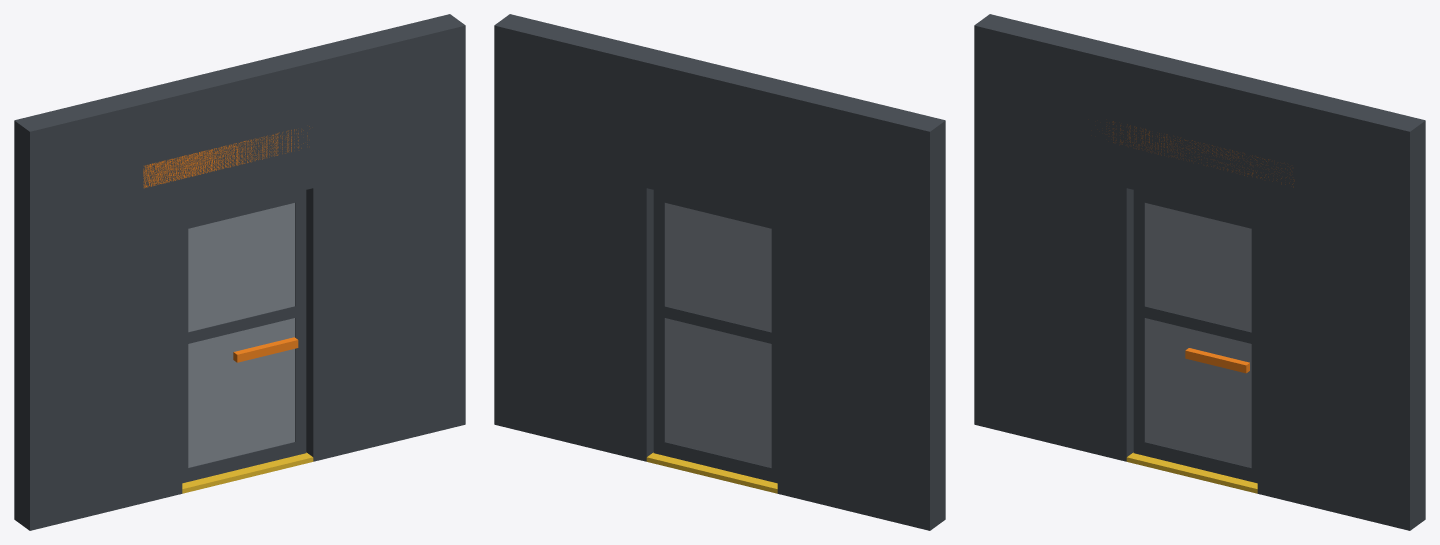
The model's file is door.glb.
3 views of the same model, side by side, from view 1: azimuth 30°, elevation 25°; view 2: azimuth 150°, elevation 25°; view 3: azimuth 330°, elevation 25° (orthographic).
Visible parts, largest first — view 1: col_Door_JambR, col_Door_JambL, col_Door_Header, Door_LOD0, Door_Leaf; view 2: col_Door_Header, col_Door_JambR, col_Door_JambL, Door_LOD0, Door_Leaf; view 3: col_Door_Header, col_Door_JambL, col_Door_JambR, Door_LOD0, Door_Leaf.
Boxes of the visible parts, x1=… form: col_Door_JambR: x1=306, y1=14, x2=465, y2=461; col_Door_JambL: x1=14, y1=83, x2=182, y2=530; col_Door_Header: x1=14, y1=14, x2=465, y2=256; Door_LOD0: x1=14, y1=14, x2=465, y2=530; Door_Leaf: x1=182, y1=190, x2=306, y2=483; col_Door_Header: x1=494, y1=14, x2=945, y2=256; col_Door_JambR: x1=494, y1=14, x2=657, y2=461; col_Door_JambL: x1=777, y1=84, x2=945, y2=530; Door_LOD0: x1=494, y1=15, x2=945, y2=529; Door_Leaf: x1=653, y1=190, x2=777, y2=483; col_Door_Header: x1=974, y1=14, x2=1425, y2=256; col_Door_JambL: x1=974, y1=14, x2=1138, y2=461; col_Door_JambR: x1=1257, y1=84, x2=1425, y2=530; Door_LOD0: x1=974, y1=15, x2=1425, y2=529; Door_Leaf: x1=1133, y1=190, x2=1257, y2=483.
Size of what is drawn, in the model's own units: 4 by 3.5 by 0.25.
